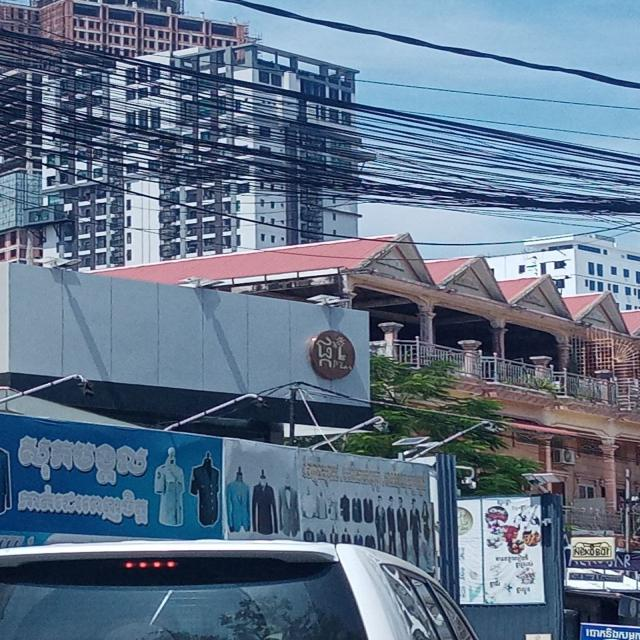893: (579, 622, 636, 638)
Yolov11_80vkh: (8, 418, 161, 492), (309, 326, 363, 378)
